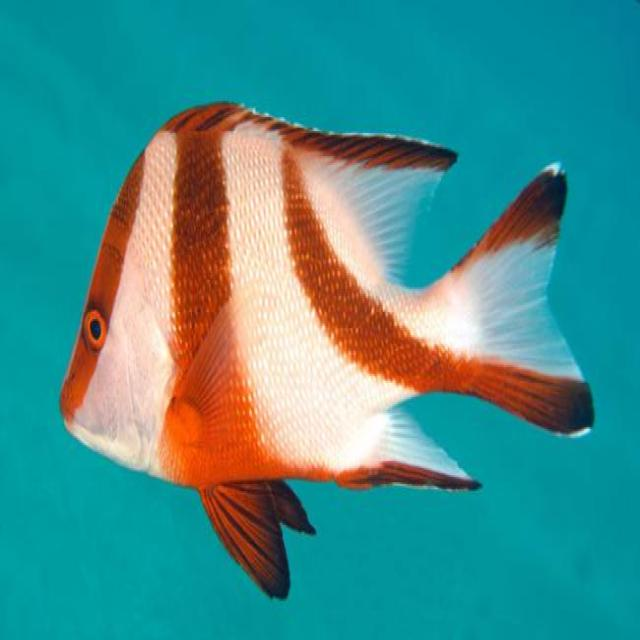ikan: (58, 98, 595, 599)
